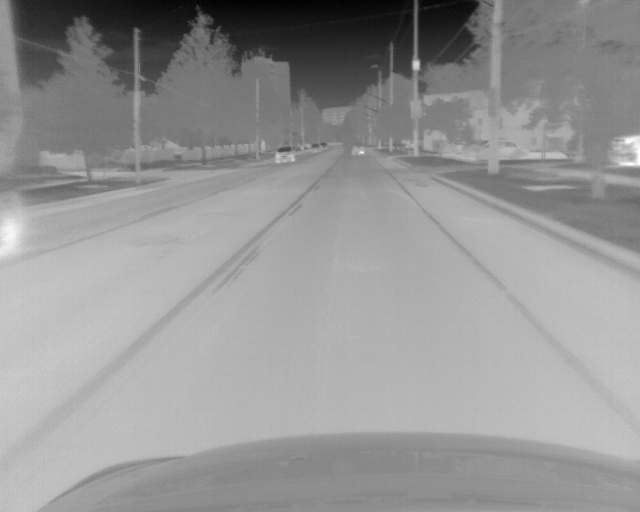car: (469, 138, 528, 158), (610, 130, 640, 168), (275, 146, 295, 164), (351, 143, 365, 156), (309, 143, 319, 152), (319, 142, 329, 151)
